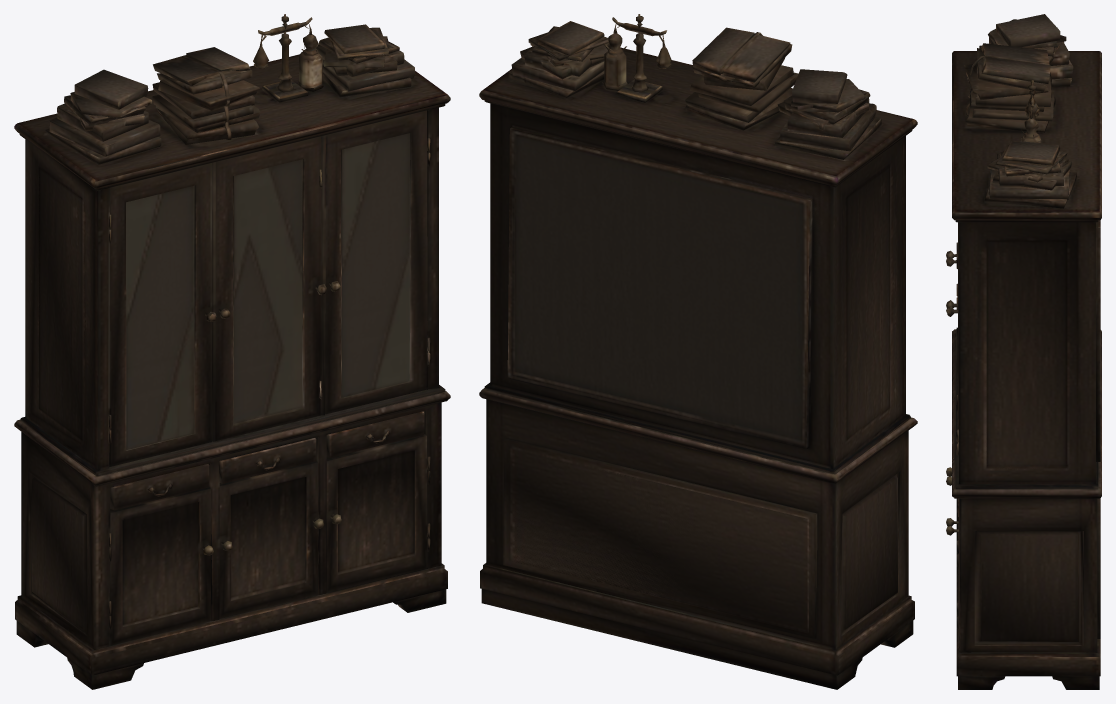
The model's file is VintageWoodenBookCabinet.fbx.
3 views of the same model, side by side, from view 1: azimuth 30°, elevation 25°; view 2: azimuth 150°, elevation 25°; view 3: azimuth 270°, elevation 25° (orthographic). The views are drawn at different scales.
Visible parts, largest first — view 1: tripo_node_a5c5db3a; view 2: tripo_node_a5c5db3a; view 3: tripo_node_a5c5db3a.
Boxes of the visible parts, <box> form: tripo_node_a5c5db3a: <box>14,14,450,689</box>; tripo_node_a5c5db3a: <box>479,14,917,689</box>; tripo_node_a5c5db3a: <box>946,14,1101,689</box>.
Bounding box in the file's own units: 0.6309 × 0.998 × 0.2559.
